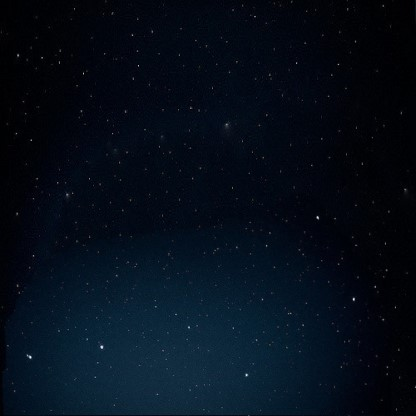Ursa Major: (232, 359, 261, 391), (177, 313, 202, 341), (343, 289, 369, 312), (302, 205, 328, 227), (17, 347, 41, 369), (91, 336, 112, 356)
